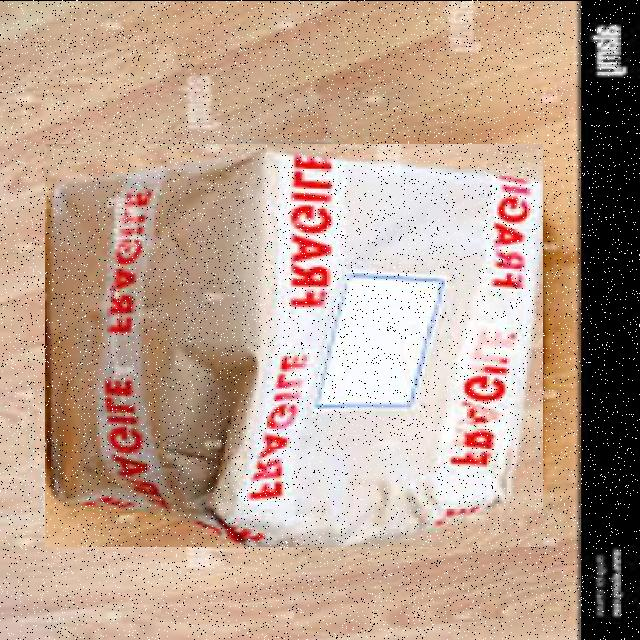defect: (45, 143, 543, 546)
